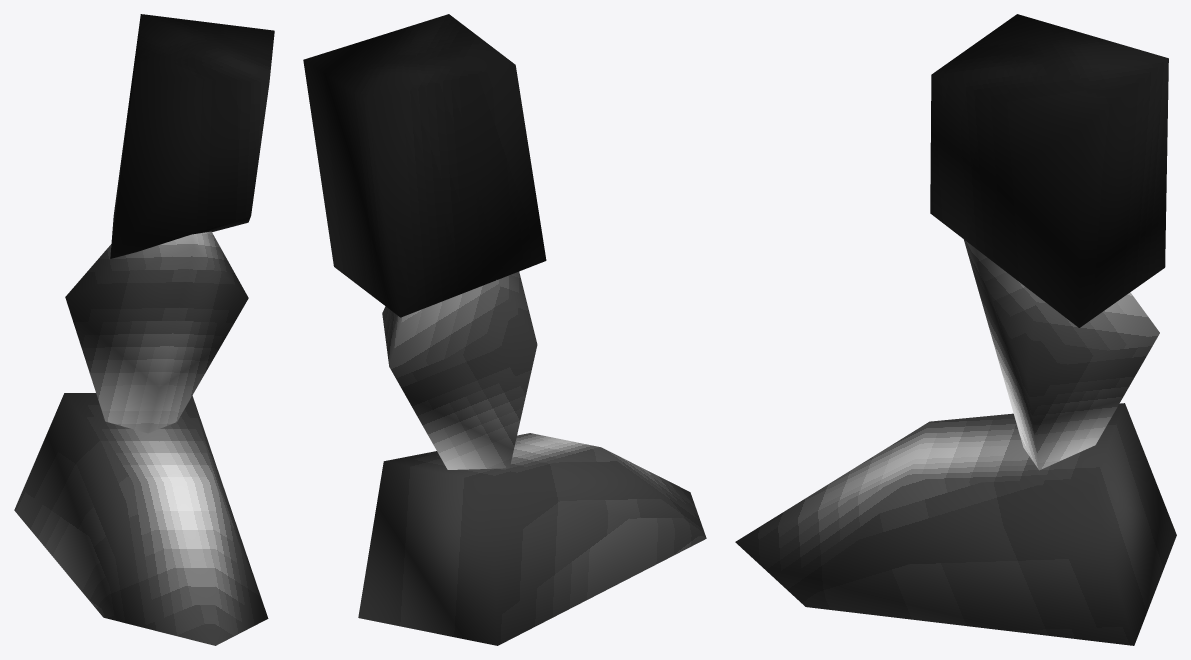
The model's file is Wolf_piernaD.obj.
The picture shows the model from 3 angles, left to right: view 1: azimuth 30°, elevation 25°; view 2: azimuth 150°, elevation 25°; view 3: azimuth 270°, elevation 25°; orthographic projection. The views are drawn at different scales.
Bounding box in the file's own units: 1.87 × 3.26 × 2.26.
